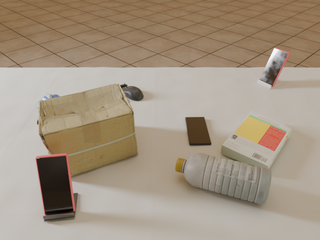book: (221, 111, 292, 169)
bottle: (175, 153, 271, 205)
box: (37, 84, 138, 176)
mouse: (120, 84, 143, 100)
phone: (35, 154, 75, 215), (260, 48, 290, 87), (185, 117, 211, 145)
toy_car: (37, 93, 59, 107)
